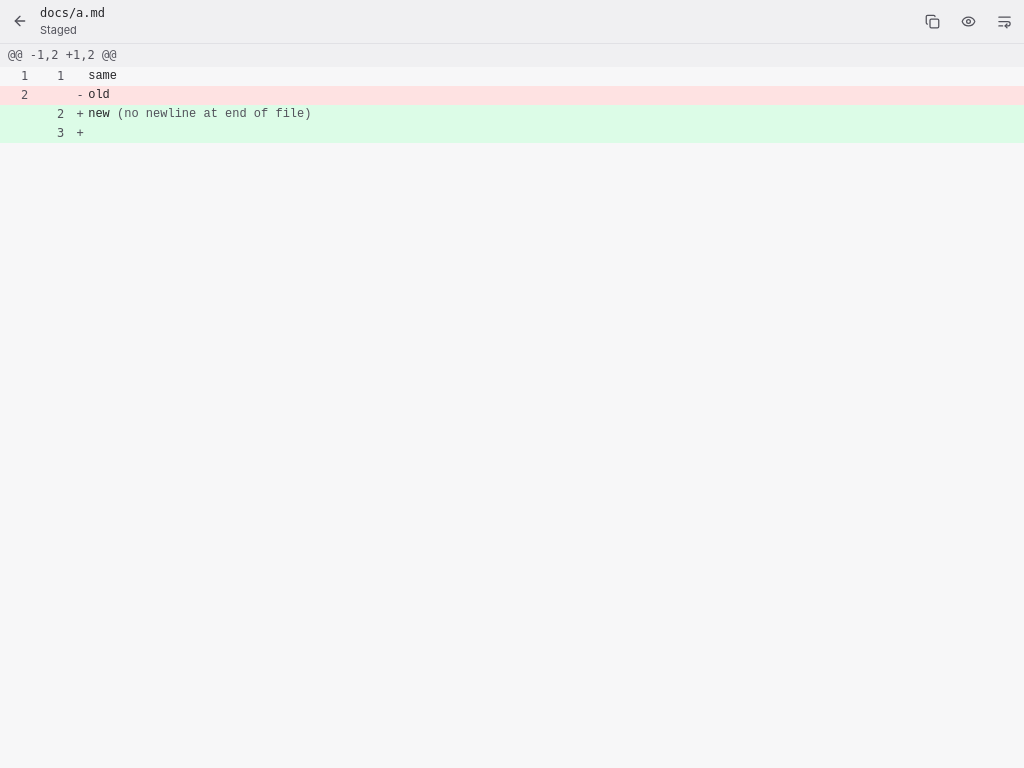
Test case: DiffViewer: Markdown preview › previews the staged side unless it deletes the file
Expected: the element with test id "diff" is shown, [0,44,1023,143]
Click the button named "Preview": (968, 21) [952,5,984,37]
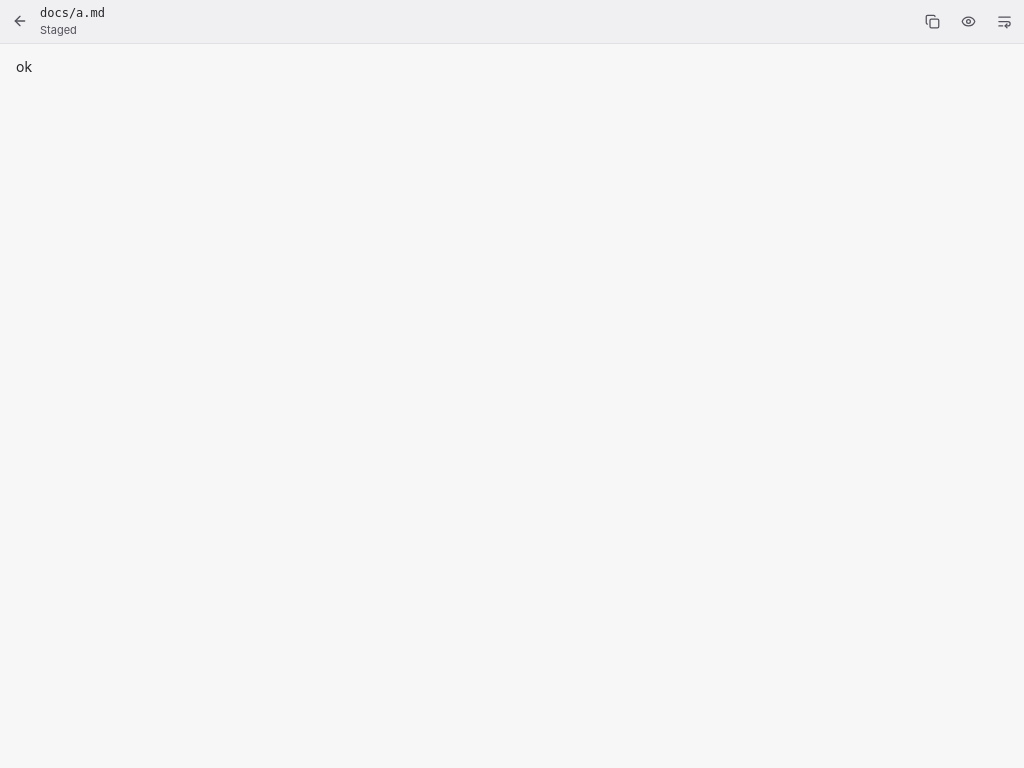
Result: the text "ok" is shown at [16,58,32,74]
